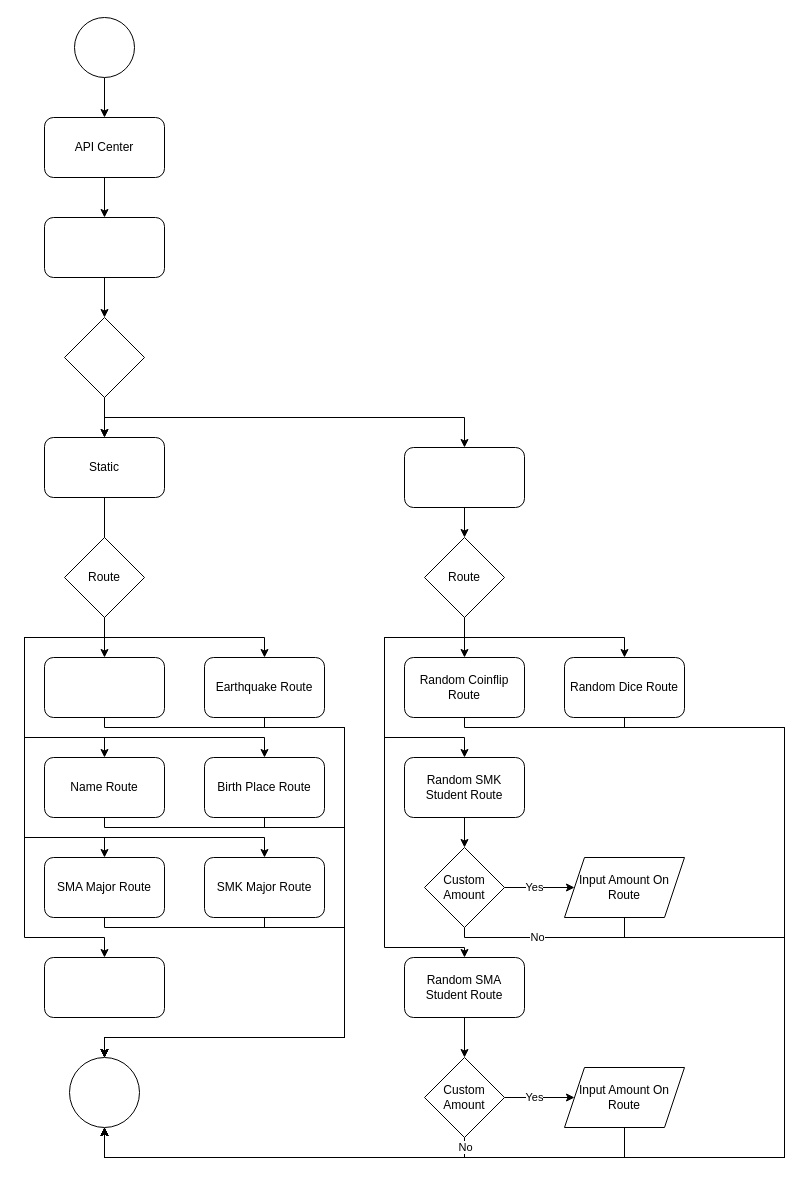
The diagram is 810 pixels wide and 1183 high, and some of its shapes have lost their labels. Here are the shapes that lost their labels. From the top down, the box of each, then its label:
(74, 16, 134, 78): Start
(44, 216, 164, 278): Homepage
(64, 316, 144, 398): Type
(404, 446, 524, 508): Random
(44, 656, 164, 718): Recipe Route
(44, 956, 164, 1018): Religion Route
(68, 1056, 140, 1128): End
